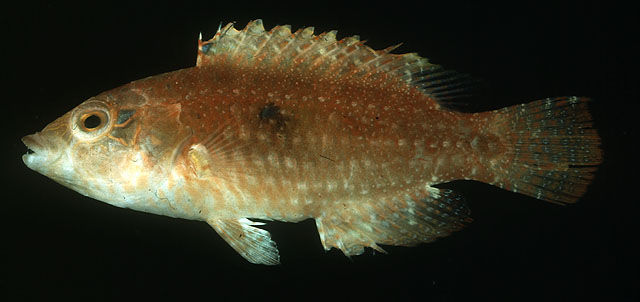fish: (21, 18, 602, 267)
